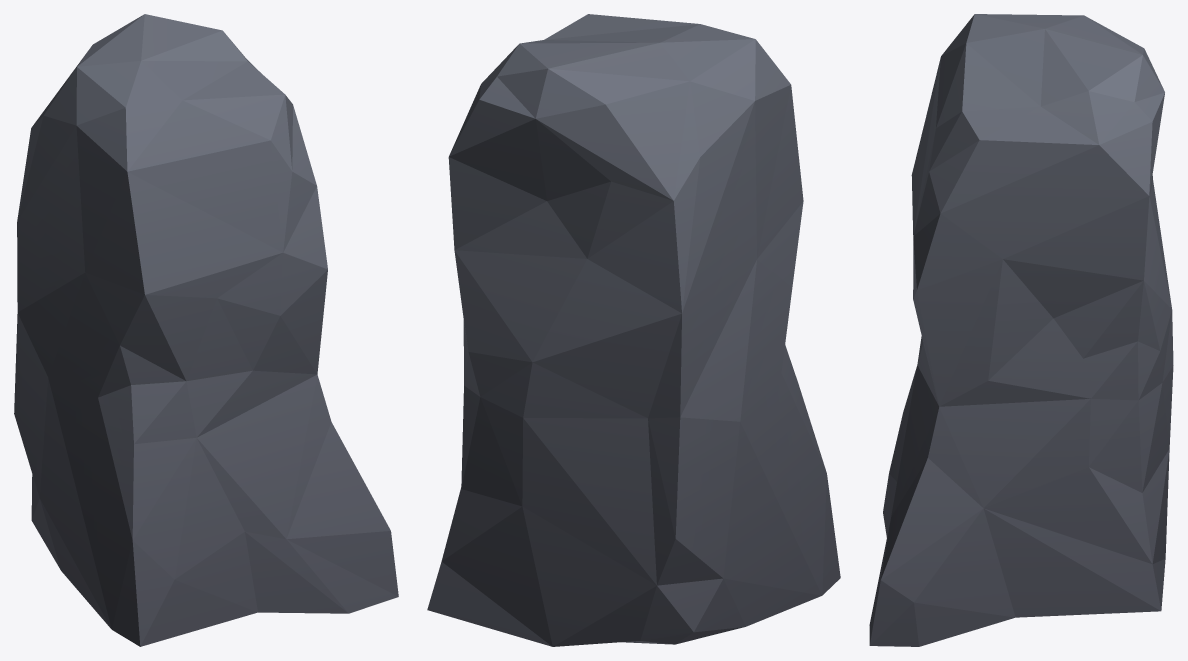
The model's file is BigRock_01.fbx.
The picture shows the model from 3 angles, left to right: view 1: azimuth 30°, elevation 25°; view 2: azimuth 150°, elevation 25°; view 3: azimuth 270°, elevation 25°; orthographic projection. The views are drawn at different scales.
Parts seen in each view (by area): view 1: BigRock_01; view 2: BigRock_01; view 3: BigRock_01.
Boxes of the visible parts, <box> form: BigRock_01: <box>14,14,398,646</box>; BigRock_01: <box>427,14,840,646</box>; BigRock_01: <box>869,14,1173,646</box>.
Size of the model in its own units: 1.6 by 3.06 by 1.58.
